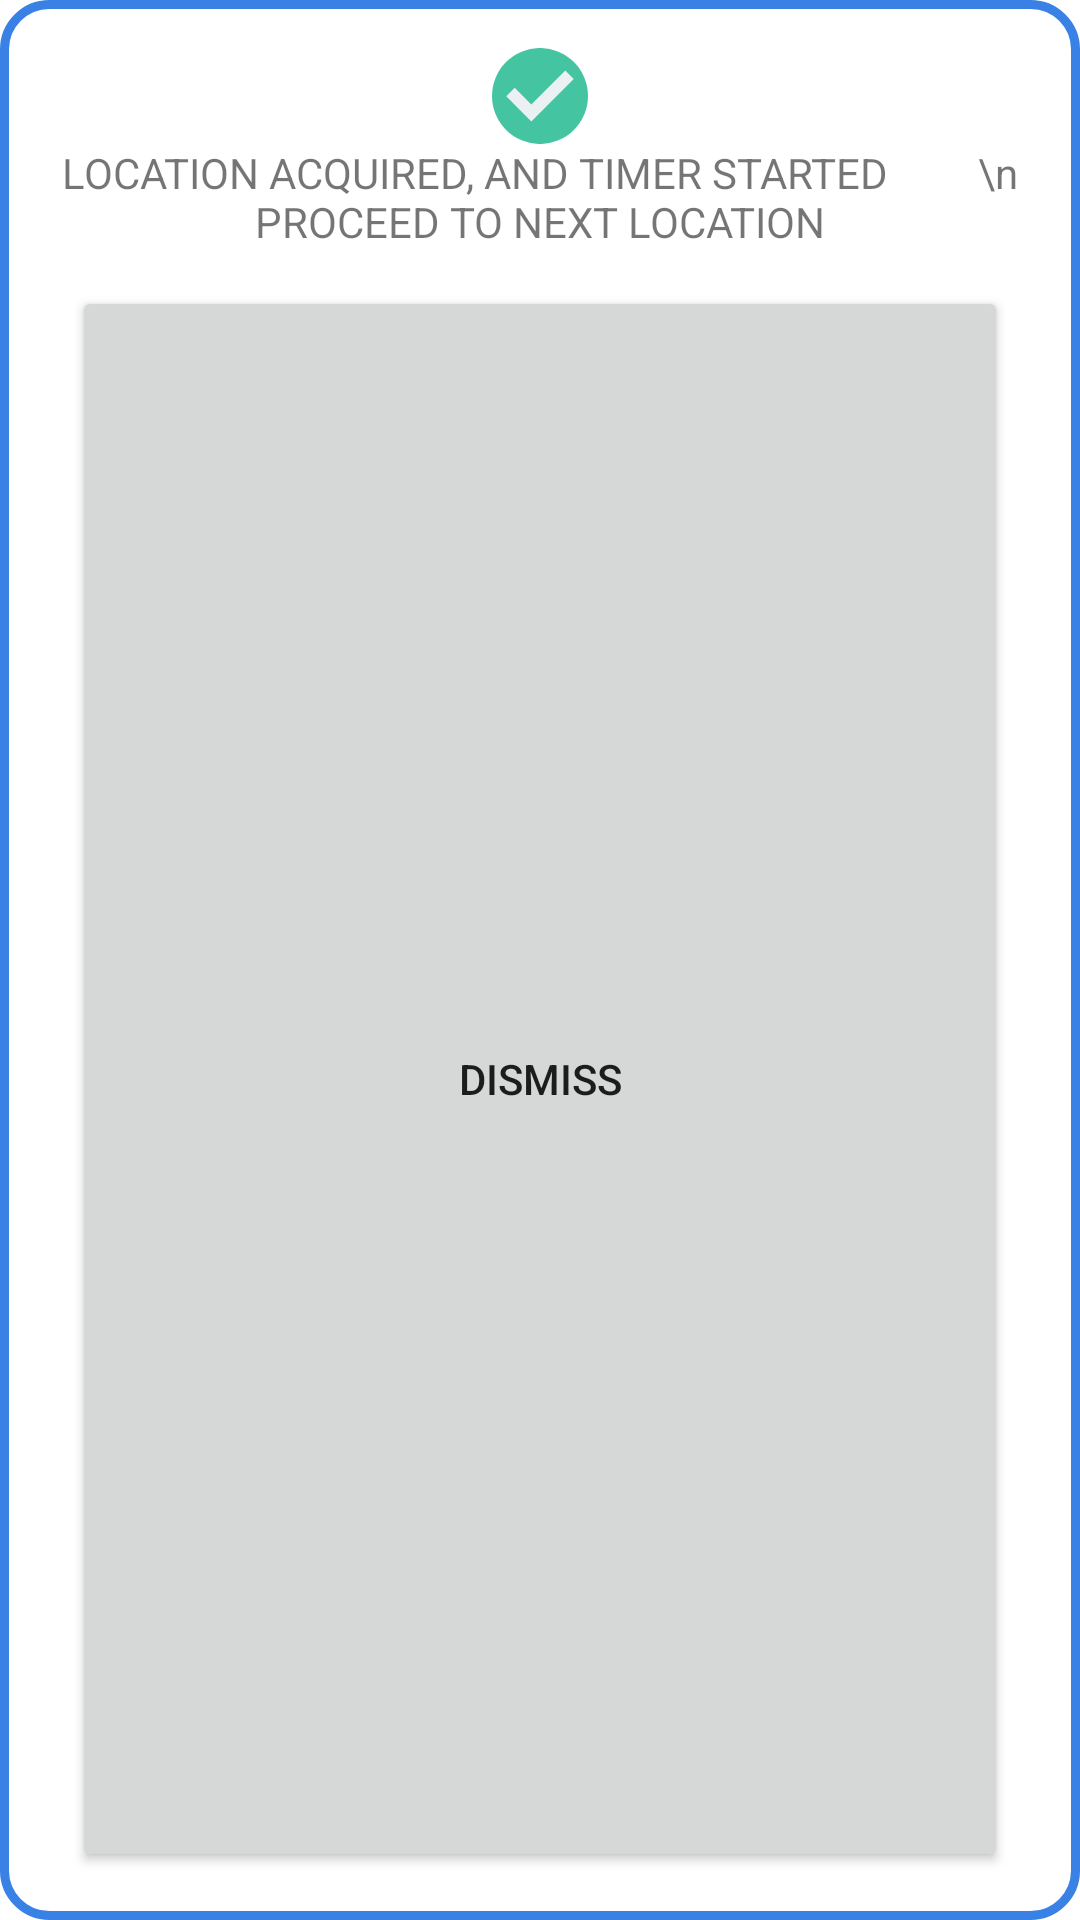

Icons on this 1080px x 1920px Android screen, each with its box as detection(x1, y1, x2, y2):
tick: detection(492, 48, 588, 144)
